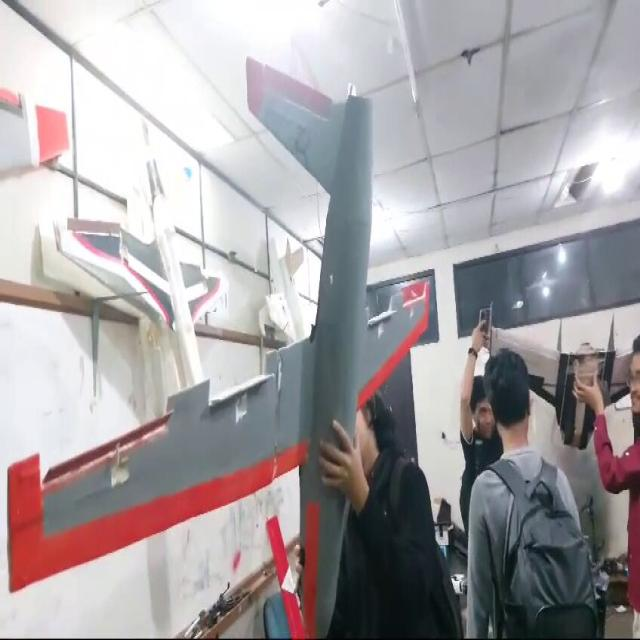plane: (4, 53, 438, 638)
